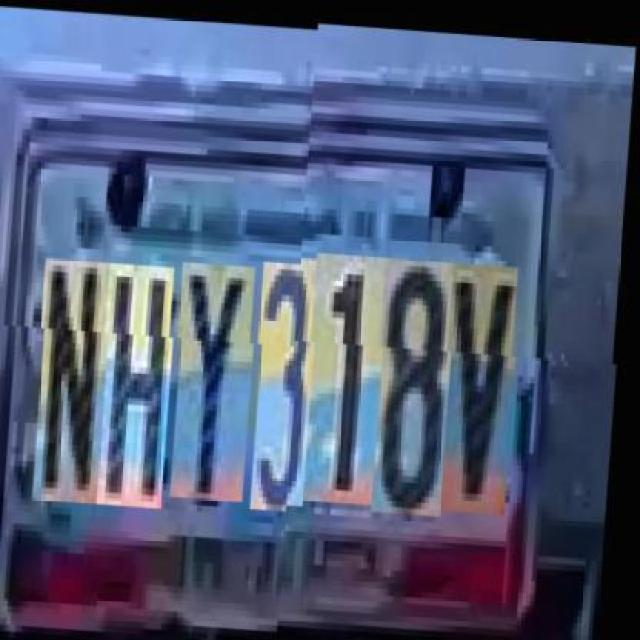1: (310, 253, 393, 504)
3: (258, 258, 324, 507)
8: (378, 258, 462, 514)
h: (103, 262, 183, 506)
n: (38, 258, 118, 502)
v: (446, 262, 526, 513)
y: (178, 258, 264, 498)
